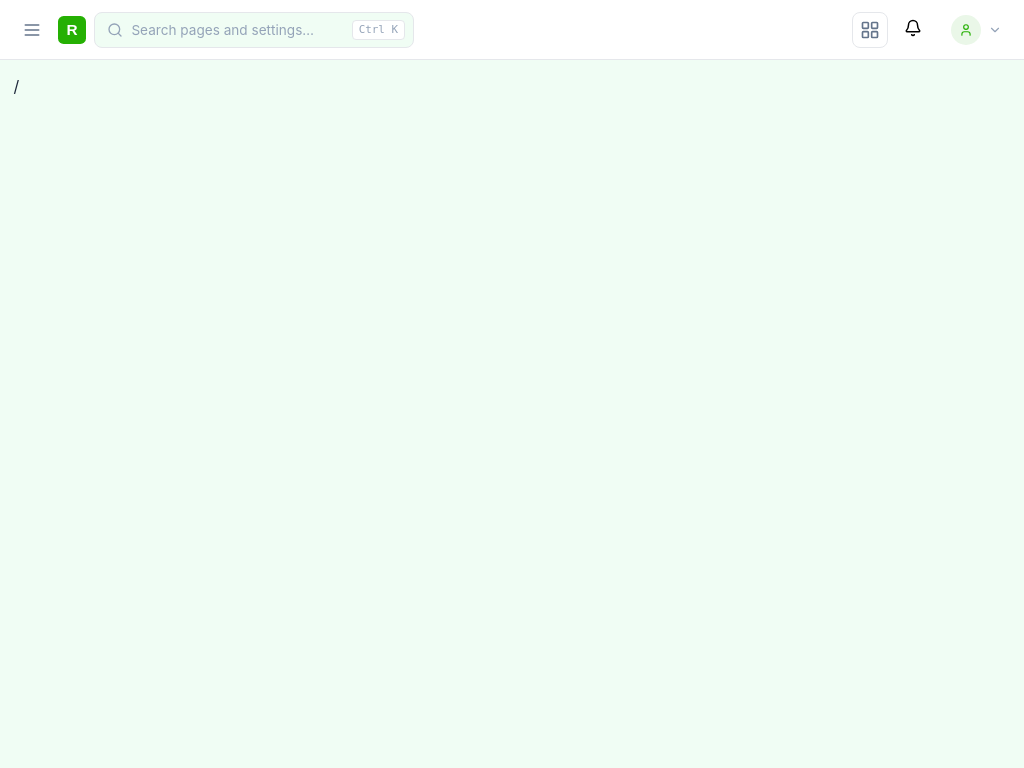
Test case: ReachLayout — responsive shell › phone: following a link closes the drawer
Click the button with test id "nav-menu-button" at (32, 30), box [14,12,50,48]
(page scrolled)
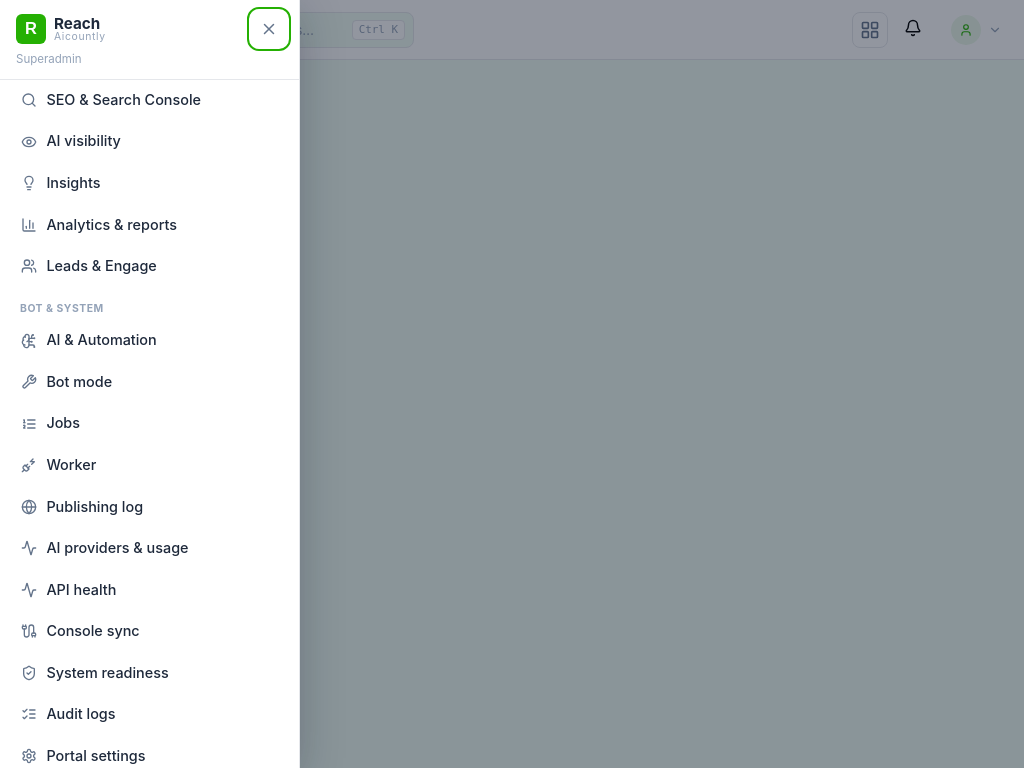
Click the link "Jobs" at (50, 423), box [21,414,80,432]
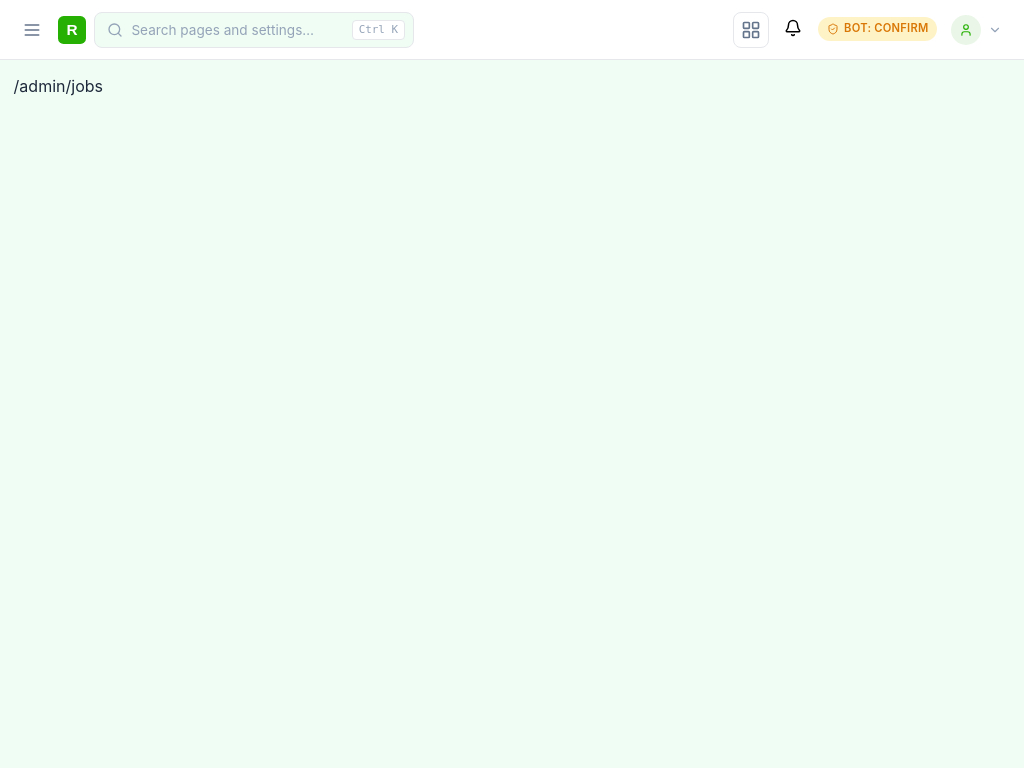
Check: the text with test id "where" reads "/admin/jobs", box [14,76,103,96]
